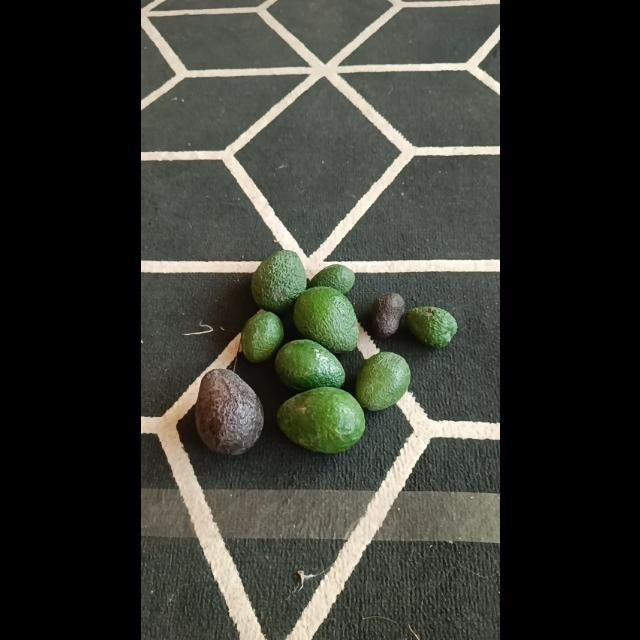Primera: (193, 367, 263, 453), (276, 386, 364, 452), (292, 286, 358, 352), (250, 249, 304, 311)
Segunda: (273, 338, 345, 392), (354, 351, 410, 411)
Tercera: (239, 311, 283, 364), (404, 306, 458, 346), (370, 294, 406, 338), (306, 263, 354, 295)
